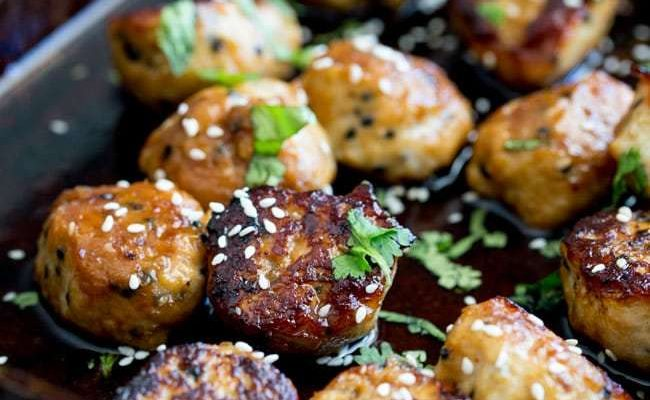meatballs: (221, 190, 387, 339), (184, 86, 346, 206), (482, 88, 625, 206)
